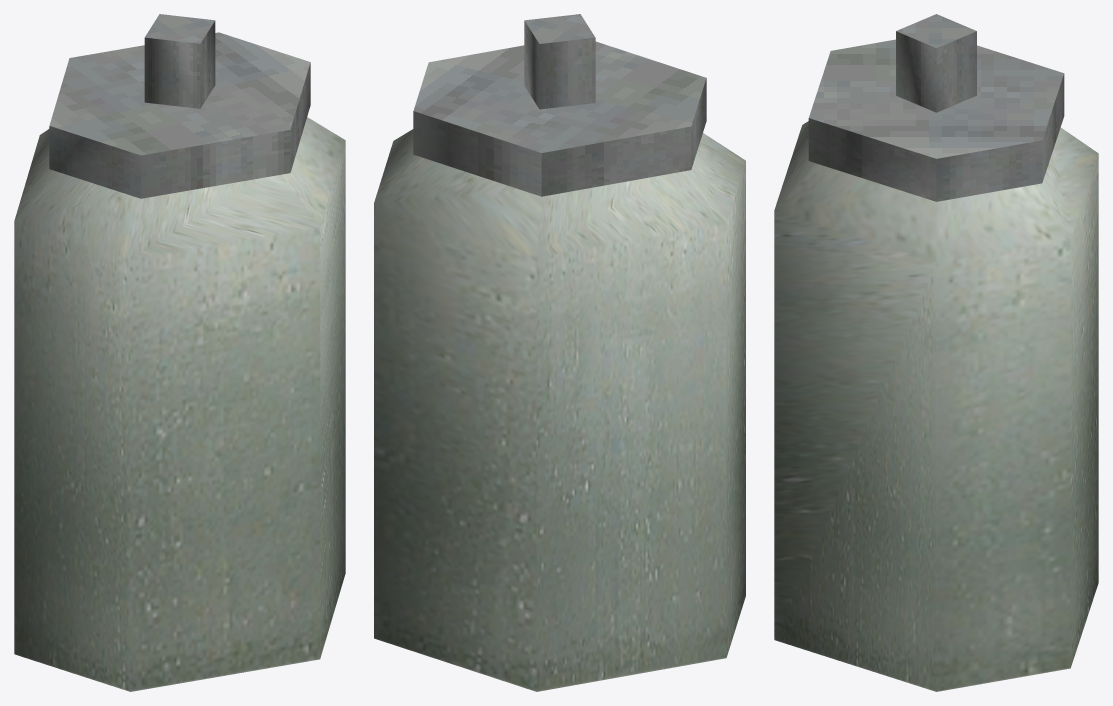
The model's file is edb_con_tato_jar_empty_s01_l1.fbx.
3 renders of one model, left to right at view 1: azimuth 30°, elevation 25°; view 2: azimuth 150°, elevation 25°; view 3: azimuth 270°, elevation 25°, orthographic.
Parts seen in each view (by area): view 1: mesh_node; view 2: mesh_node; view 3: mesh_node.
Part boxes in pixels (box(x1,y1,x2,y2)): mesh_node: box(14, 14, 345, 691); mesh_node: box(374, 14, 745, 691); mesh_node: box(774, 14, 1098, 691).
Bounding box in the file's own units: 0.2 × 0.3375 × 0.1707.
2 materials, 2 textured.
